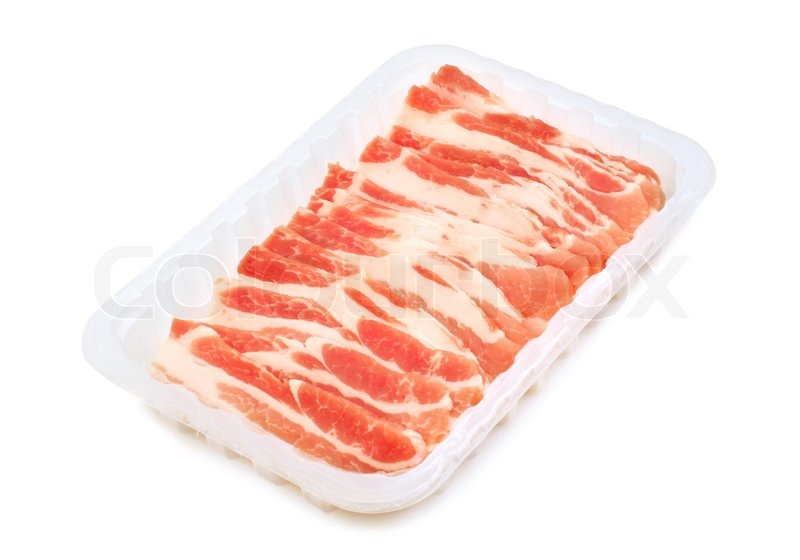bacon: (132, 48, 669, 465), (218, 278, 471, 384)
